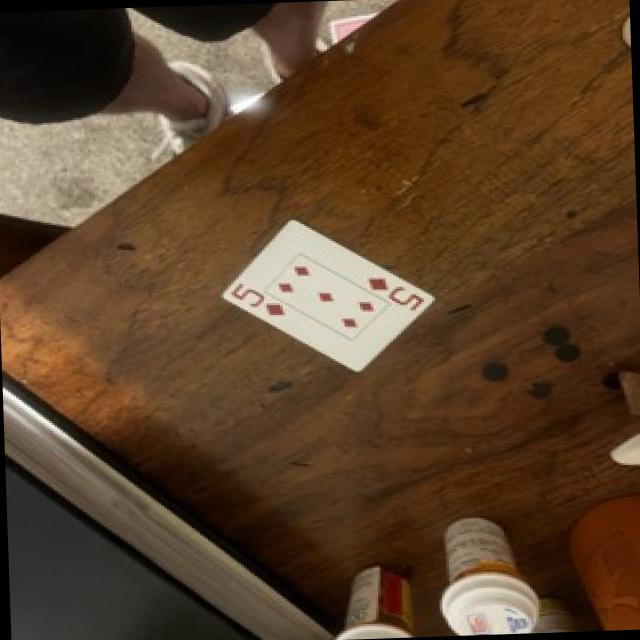5 of diamonds: (223, 219, 434, 370)
